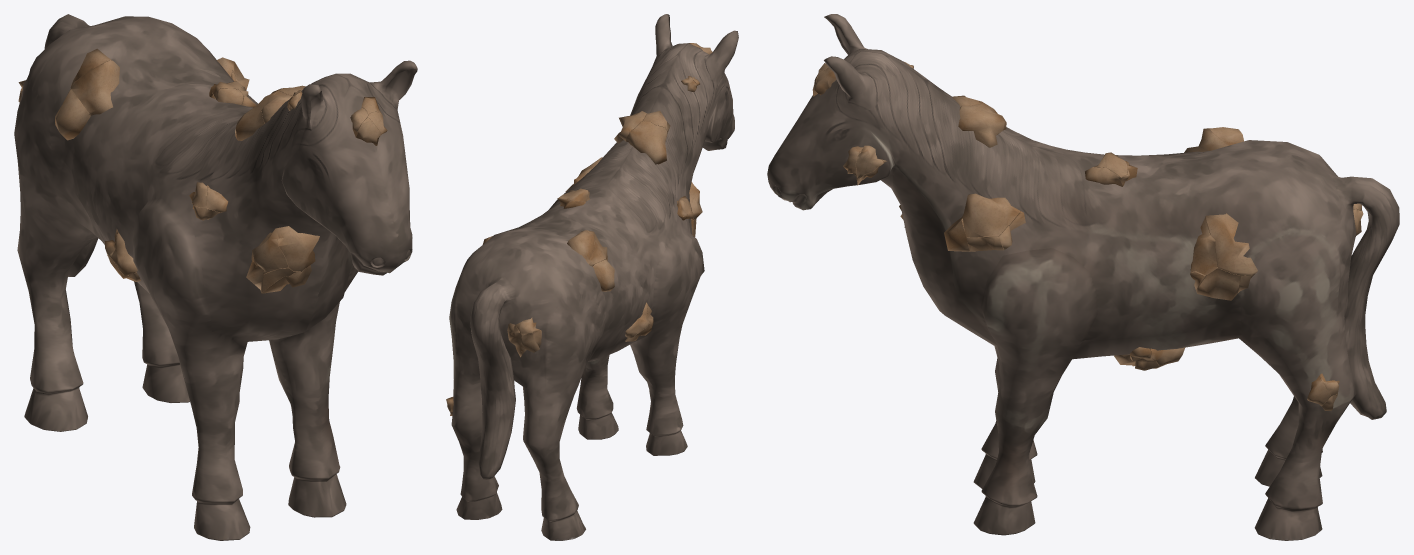
The model's file is Horse_V1.fbx.
3 views of the same model, side by side, from view 1: azimuth 30°, elevation 25°; view 2: azimuth 150°, elevation 25°; view 3: azimuth 270°, elevation 25° (orthographic). The views are drawn at different scales.
Parts seen in each view (by area): view 1: Paperweight_Horse_Mesh, Dirt_Jar_3_cell.001, Dirt_Jar_1_1_cell, Dirt_Jar_3_cell.002, Dirt_Jar_1_1_cell.003, Dirt_Jar_2_cell.001, Dirt_Jar_1_1_cell.002, Dirt_Jar_5_cell, Dirt_Jar_1_1_cell.001, Dirt_Jar_3_cell; view 2: Paperweight_Horse_Mesh, Dirt_Jar_2_cell.001, Dirt_Jar_3_cell, Dirt_Jar_3_cell.002, Dirt_Jar_2_cell, Dirt_Jar_4_cell.001, Dirt_Jar_3_cell.001; view 3: Paperweight_Horse_Mesh, Dirt_Jar_2_1_cell.003, Dirt_Jar_1_cell.003, Dirt_Jar_2_cell, Dirt_Jar_1_cell.004, Dirt_Jar_1_cell.002.
Boxes of the visible parts, left/top/right/bottom form: Paperweight_Horse_Mesh: left=14, top=14, right=417, bottom=540; Dirt_Jar_3_cell.001: left=70, top=60, right=119, bottom=115; Dirt_Jar_1_1_cell: left=276, top=226, right=319, bottom=271; Dirt_Jar_3_cell.002: left=55, top=89, right=90, bottom=140; Dirt_Jar_1_1_cell.003: left=251, top=228, right=288, bottom=273; Dirt_Jar_2_cell.001: left=235, top=90, right=278, bottom=140; Dirt_Jar_1_1_cell.002: left=246, top=261, right=296, bottom=292; Dirt_Jar_5_cell: left=110, top=233, right=137, bottom=275; Dirt_Jar_1_1_cell.001: left=254, top=265, right=311, bottom=293; Dirt_Jar_3_cell: left=72, top=48, right=111, bottom=83; Paperweight_Horse_Mesh: left=449, top=14, right=738, bottom=540; Dirt_Jar_2_cell.001: left=626, top=121, right=667, bottom=164; Dirt_Jar_3_cell: left=567, top=230, right=594, bottom=263; Dirt_Jar_3_cell.002: left=592, top=259, right=614, bottom=291; Dirt_Jar_2_cell: left=614, top=111, right=646, bottom=143; Dirt_Jar_4_cell.001: left=521, top=330, right=541, bottom=353; Dirt_Jar_3_cell.001: left=580, top=230, right=607, bottom=266; Paperweight_Horse_Mesh: left=767, top=14, right=1399, bottom=540; Dirt_Jar_2_1_cell.003: left=961, top=193, right=1020, bottom=237; Dirt_Jar_1_cell.003: left=1205, top=213, right=1257, bottom=275; Dirt_Jar_2_cell: left=958, top=104, right=1004, bottom=147; Dirt_Jar_1_cell.004: left=1196, top=267, right=1240, bottom=300; Dirt_Jar_1_cell.002: left=1190, top=218, right=1217, bottom=275.
Bounding box in the file's own units: 87.41 × 214 × 261.
